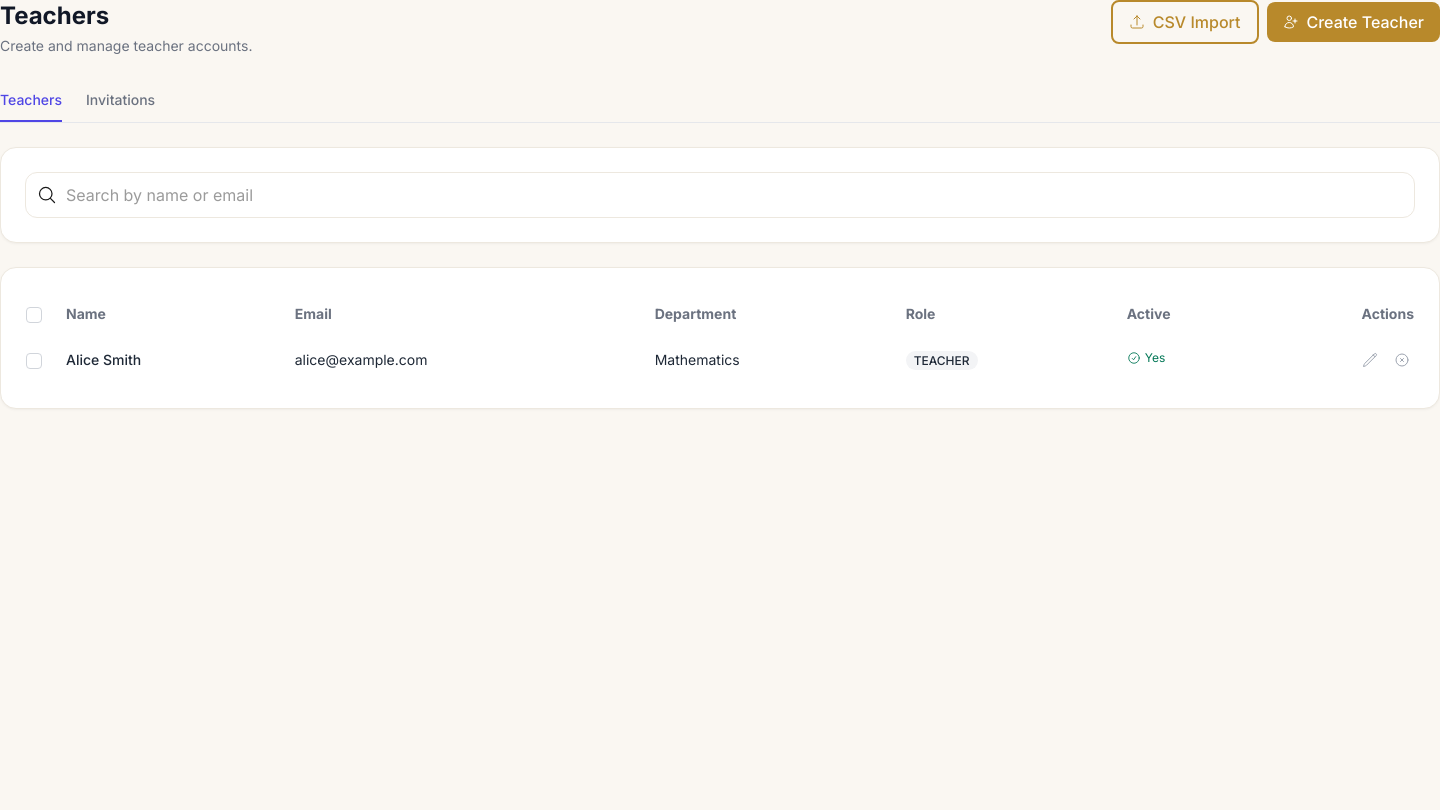
it: TeachersPage › invite form › clicking Invite Teacher shows the invite modal form
The image size is (1440, 810).
Click the button "Invitations" at (121, 101), box [86,80,155,122]
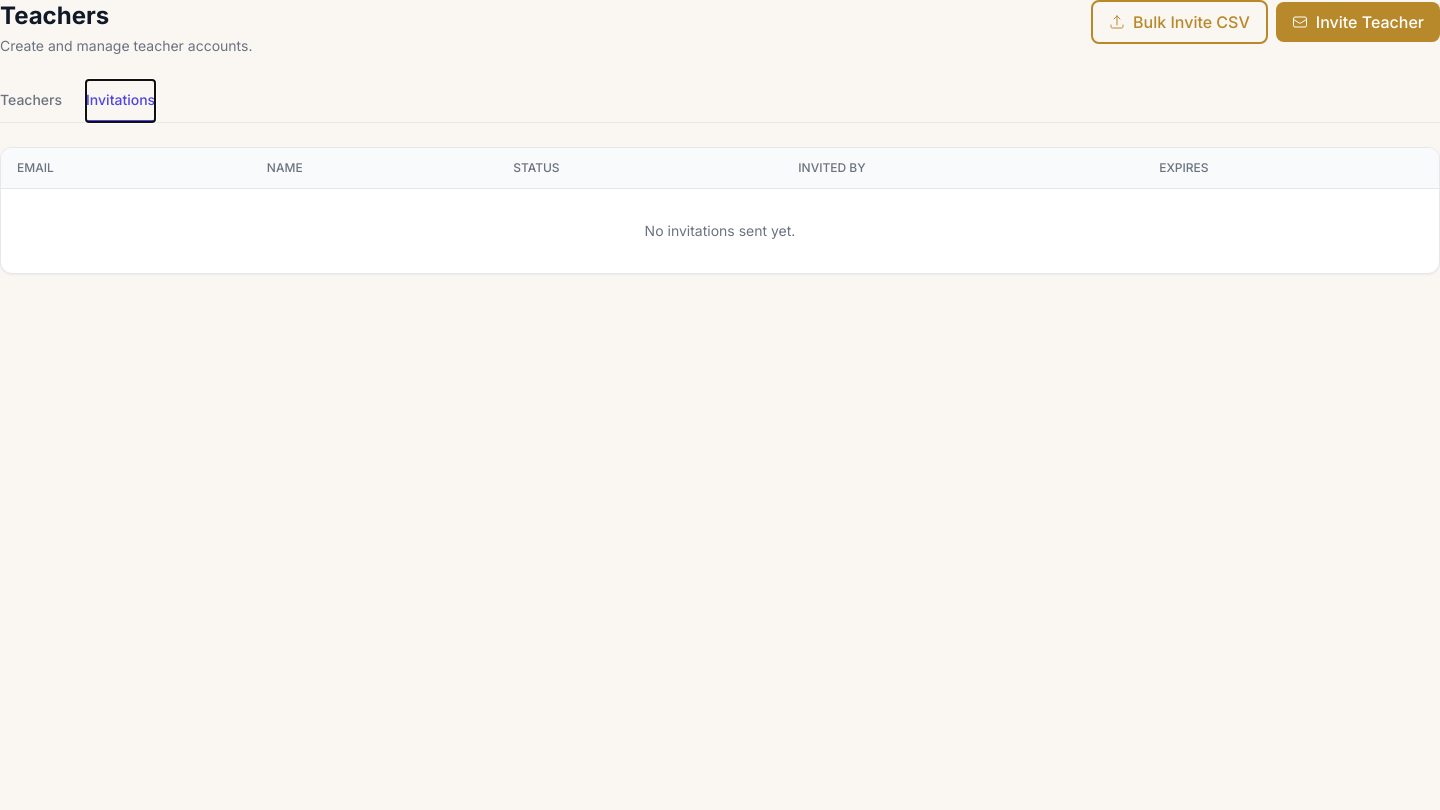
Expected: the text "No invitations sent yet." is shown, [1,188,1439,273]
Click the button "Invite Teacher" at (1358, 22), box [1276,2,1439,42]
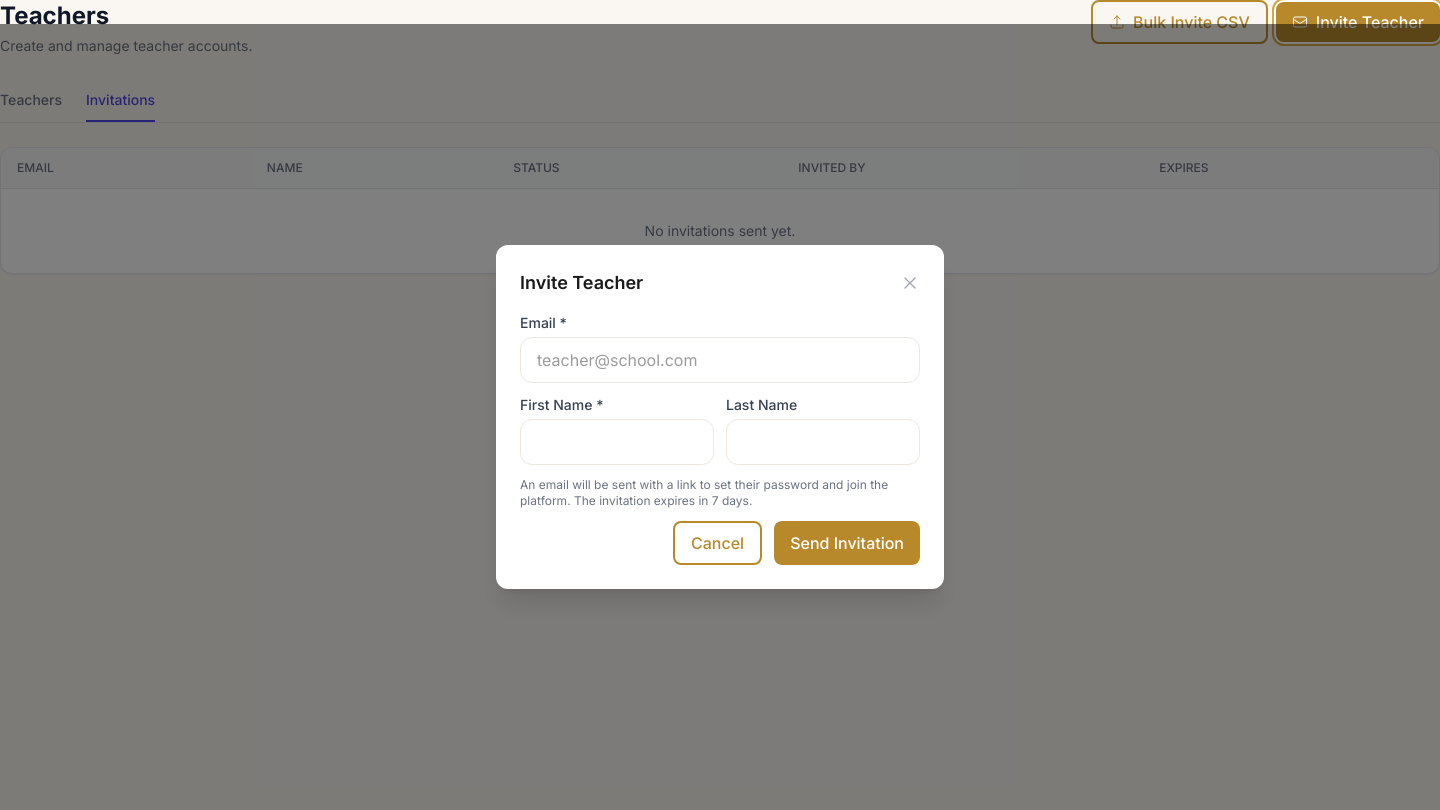
Expected: the text "invitation expires in 7 days" is shown, [520,477,888,508]
Expected: the field labelled "Email *" is shown, [520,337,920,383]
Expected: the button "Send Invitation" is shown, [774,521,920,565]
